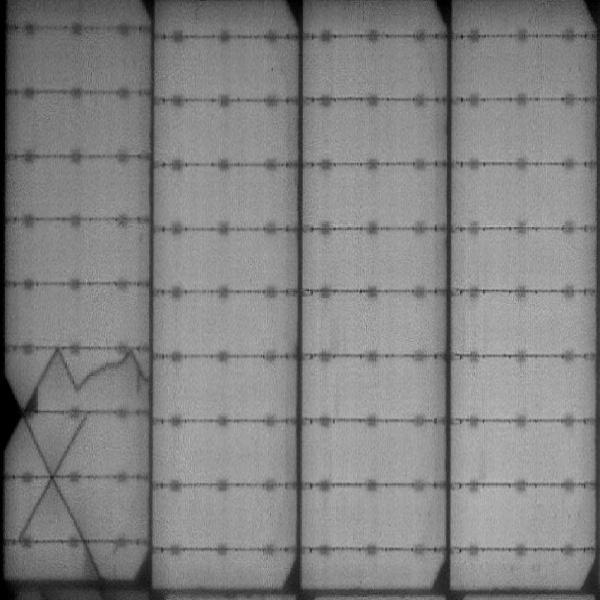broken: (2, 344, 148, 585)
